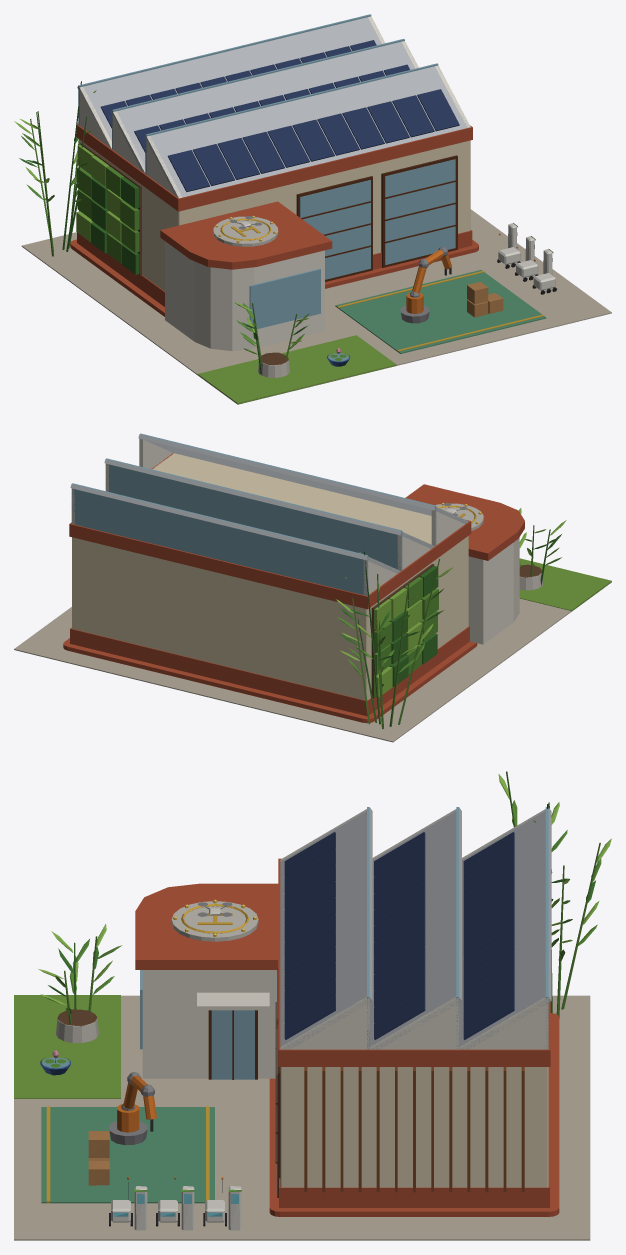
Rendered from factory_1.glb.
3 views of the same model, one above another, from view 1: azimuth 30°, elevation 25°; view 2: azimuth 150°, elevation 25°; view 3: azimuth 270°, elevation 25° (orthographic). The views are drawn at different scales.
Parts seen in each view (by area): view 1: body; view 2: body; view 3: body, windows.
Boxes of the visible parts, bbox=[...] form: body: bbox=[14, 14, 611, 404]; body: bbox=[14, 433, 611, 742]; body: bbox=[14, 771, 611, 1240]; windows: bbox=[113, 899, 256, 1216].
Size of the model in its own units: 17.02 by 6.76 by 16.5.
